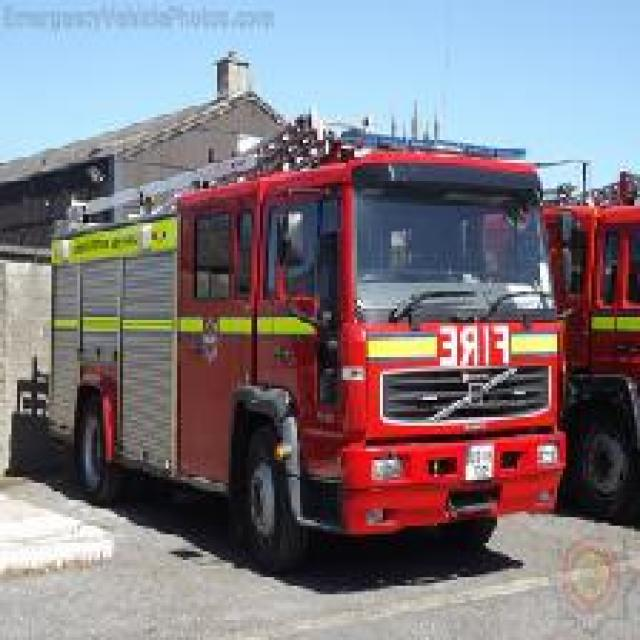Fire-truck: (31, 111, 572, 572)
